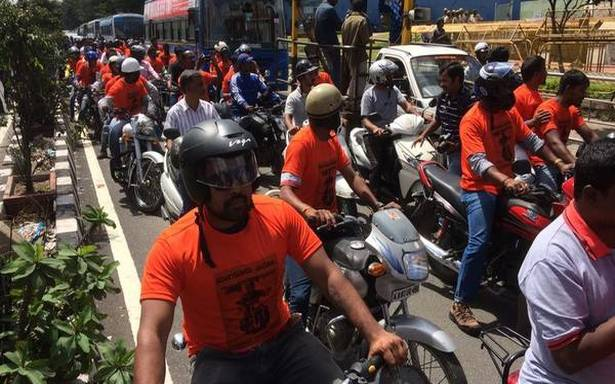helmet: (177, 119, 258, 193), (478, 61, 522, 107), (367, 57, 402, 88)
